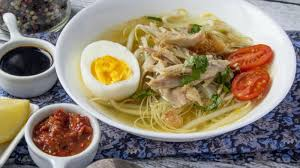soto: (58, 1, 299, 133)
